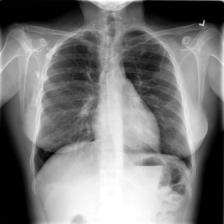normal: (31, 23, 199, 191)
